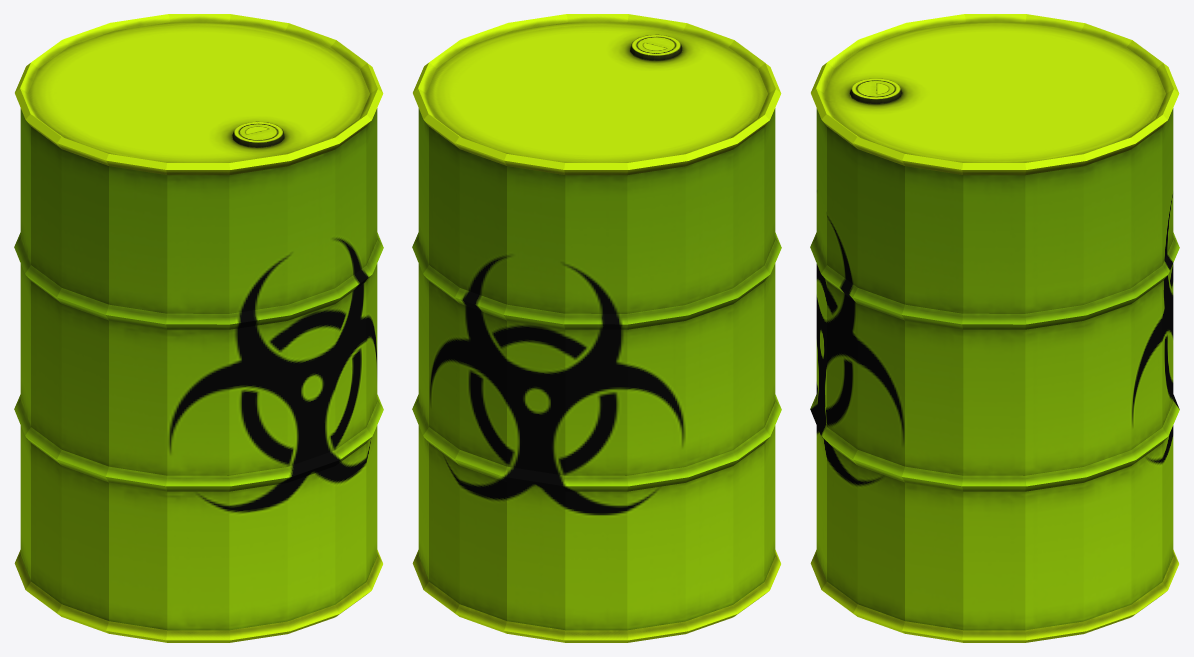
The model's file is barrel_unsmoothed.FBX.
3 views of the same model, side by side, from view 1: azimuth 30°, elevation 25°; view 2: azimuth 150°, elevation 25°; view 3: azimuth 270°, elevation 25° (orthographic).
Visible parts, largest first — view 1: objdefault01; view 2: objdefault01; view 3: objdefault01.
Boxes of the visible parts, x1,y1,x2,y2 form: objdefault01: (14, 14, 383, 642); objdefault01: (412, 14, 781, 642); objdefault01: (810, 14, 1179, 642).
Size of the model in its own units: 4.2 by 6.1 by 4.26.
1 material, 1 textured.
